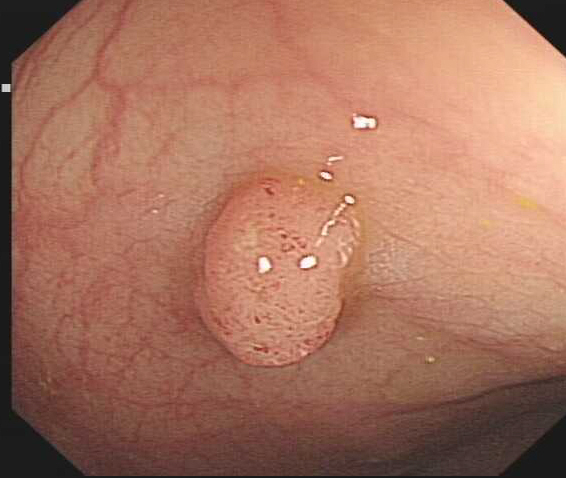others: (194, 172, 357, 372)
